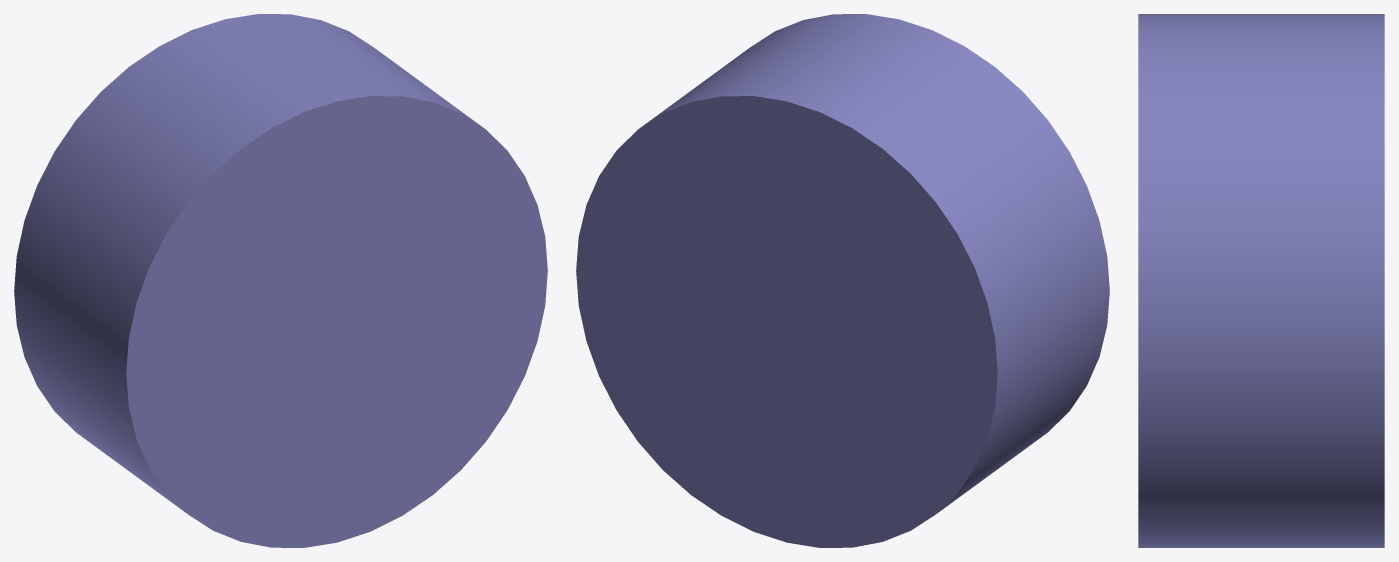
The model's file is bottom_absorber.obj.
The picture shows the model from 3 angles, left to right: view 1: azimuth 30°, elevation 25°; view 2: azimuth 150°, elevation 25°; view 3: azimuth 270°, elevation 25°; orthographic projection. The views are drawn at different scales.
Bounding box in the file's own units: 10.17 × 10.17 × 4.68.
